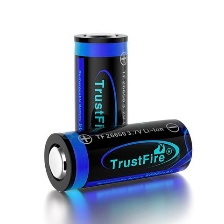battery: (39, 113, 197, 194), (70, 28, 130, 178)
